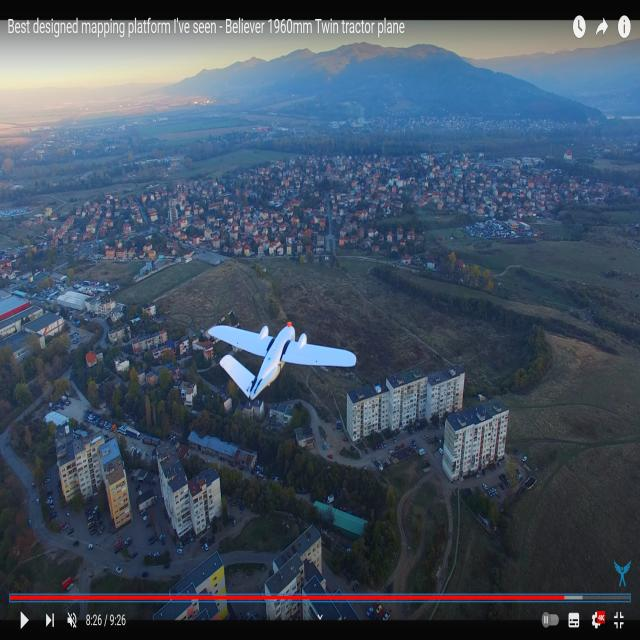iha: (207, 352, 357, 365)
